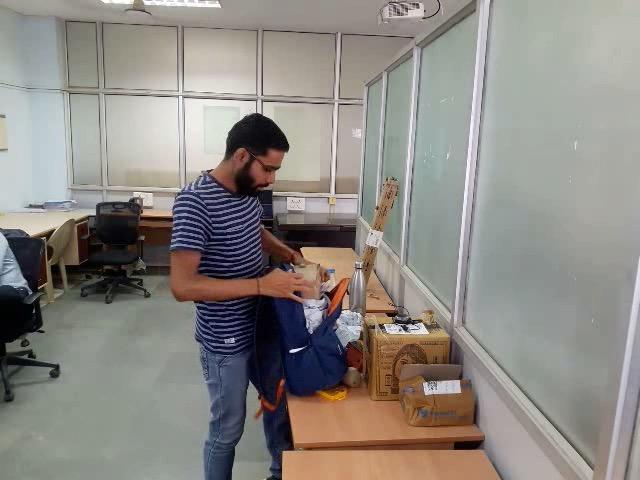shoplifting: (153, 243, 376, 366)
